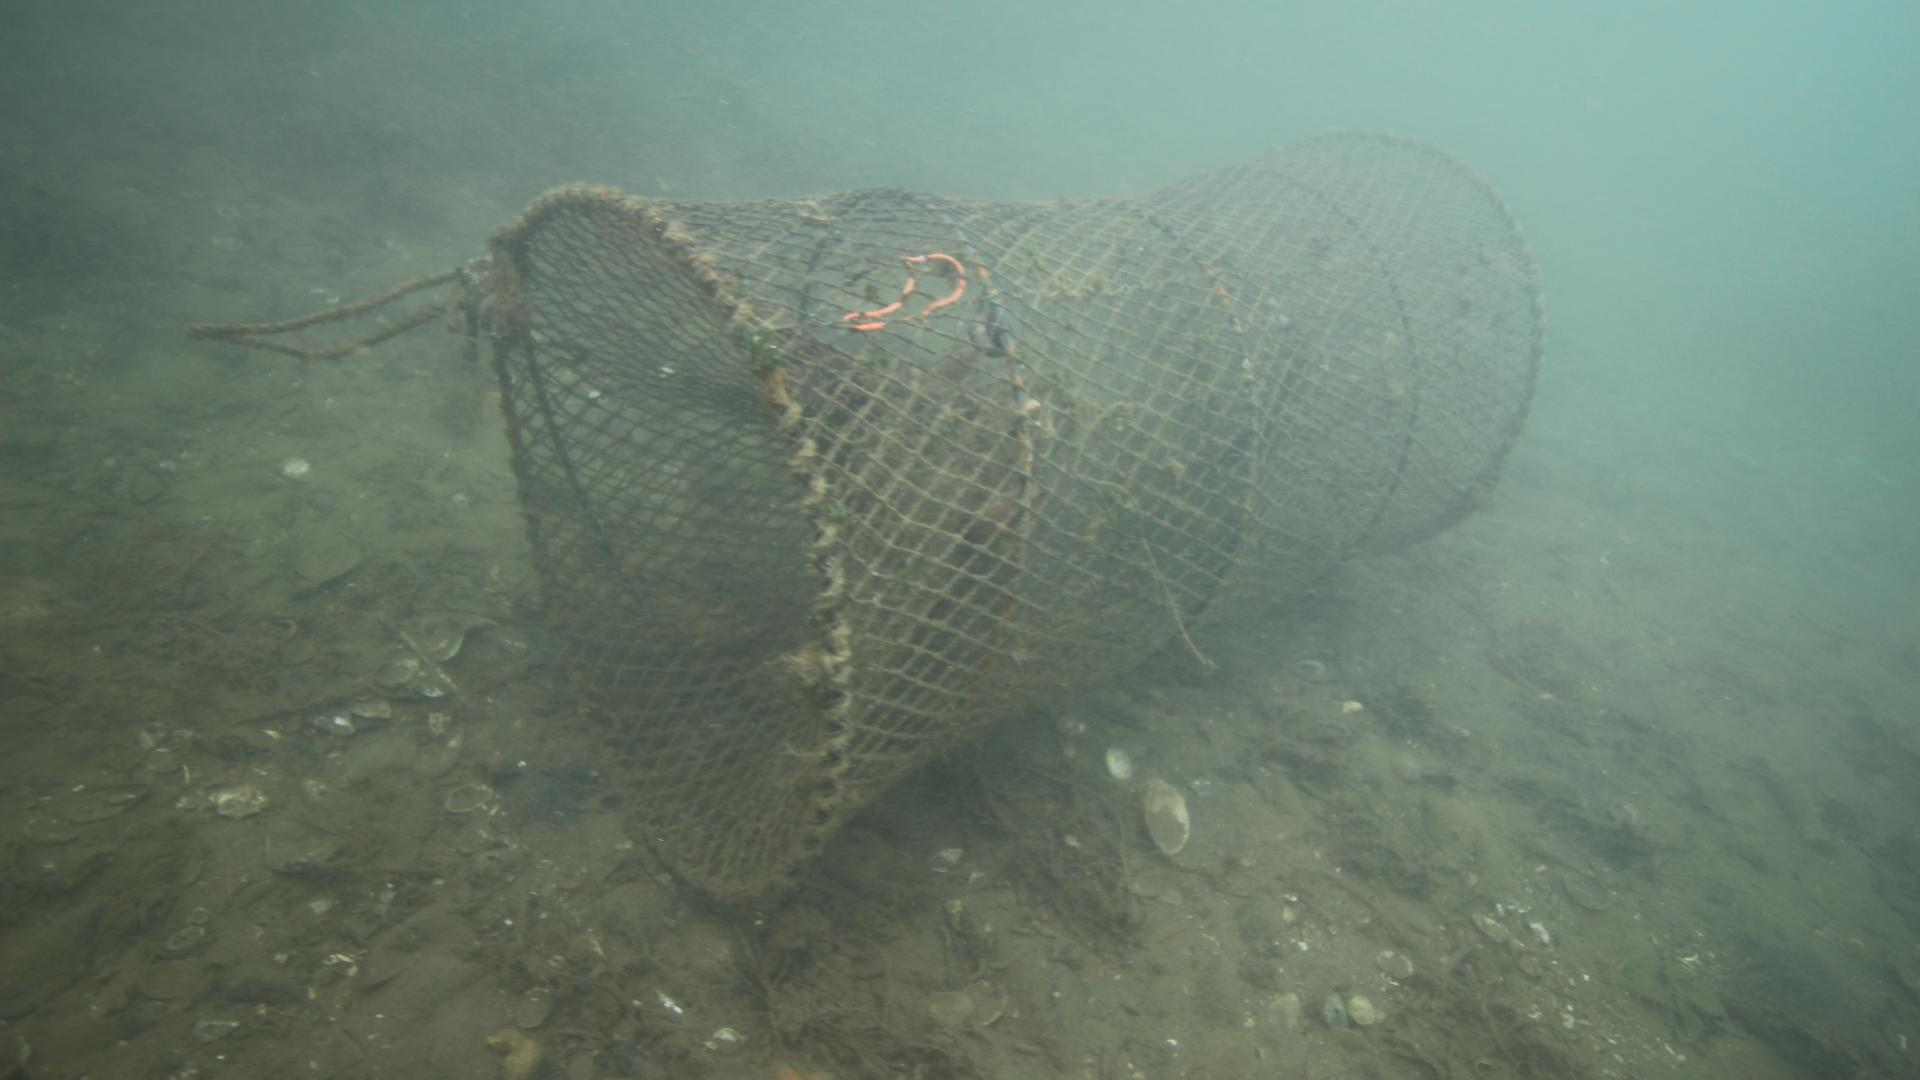bundle of ropes: (186, 256, 471, 371)
spring fish trap: (489, 125, 1547, 919)
